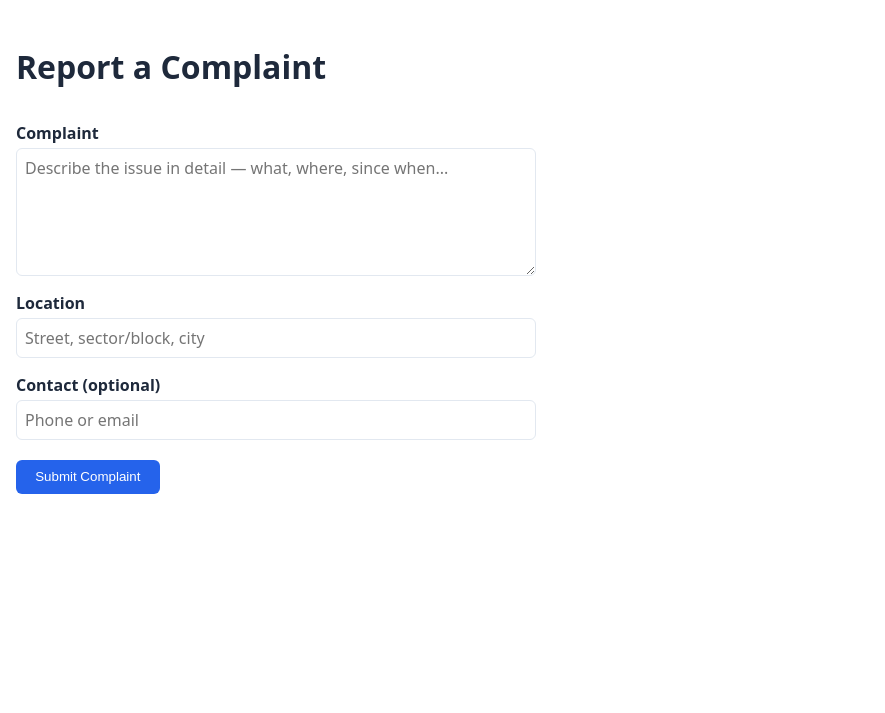
Test: SubmitPage › renders category, priority, summary and provider on success
The image size is (885, 713).
Type "Streetlight has been broken for over a week now near the park." into the text box labelled "Complaint" at coordinates (276, 212), box [16, 148, 536, 276]
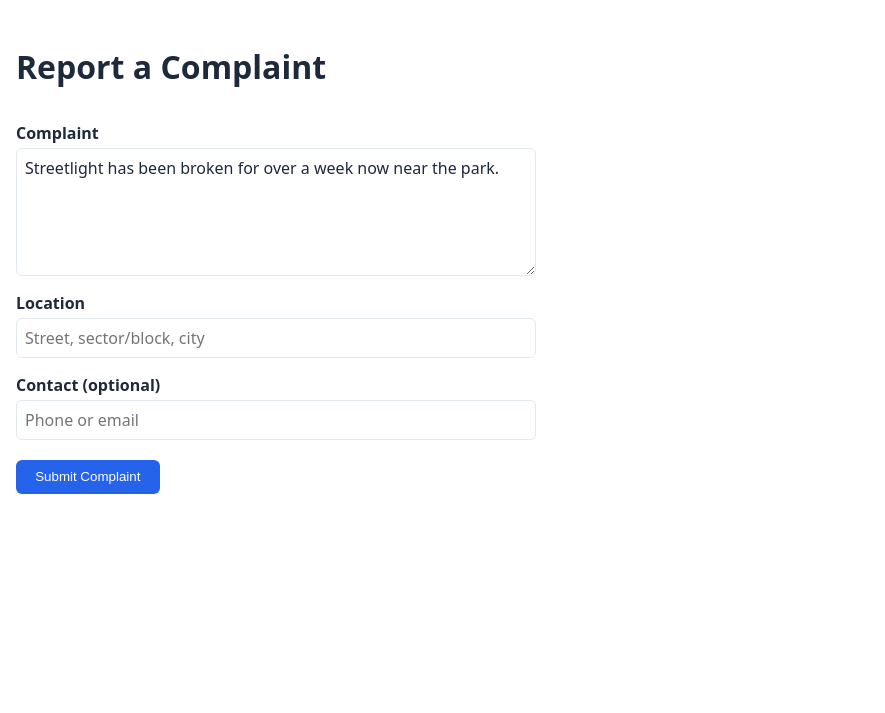
Type "Sector I-8" into the field labelled "Location" at coordinates (276, 338), box [16, 318, 536, 358]
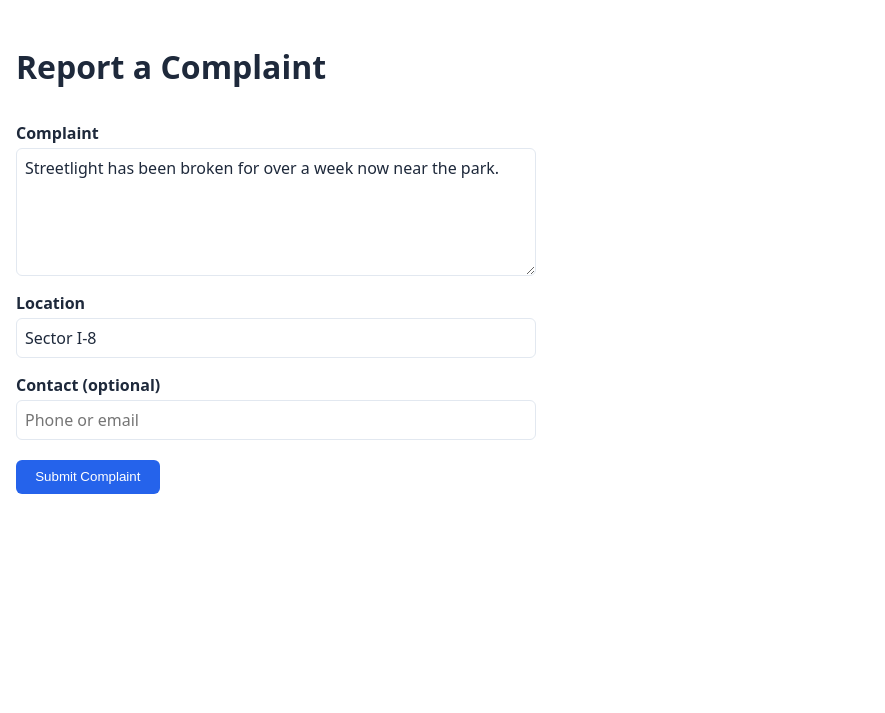
Click the button "Submit Complaint" at coordinates (88, 477), box [16, 460, 160, 494]
(page scrolled)
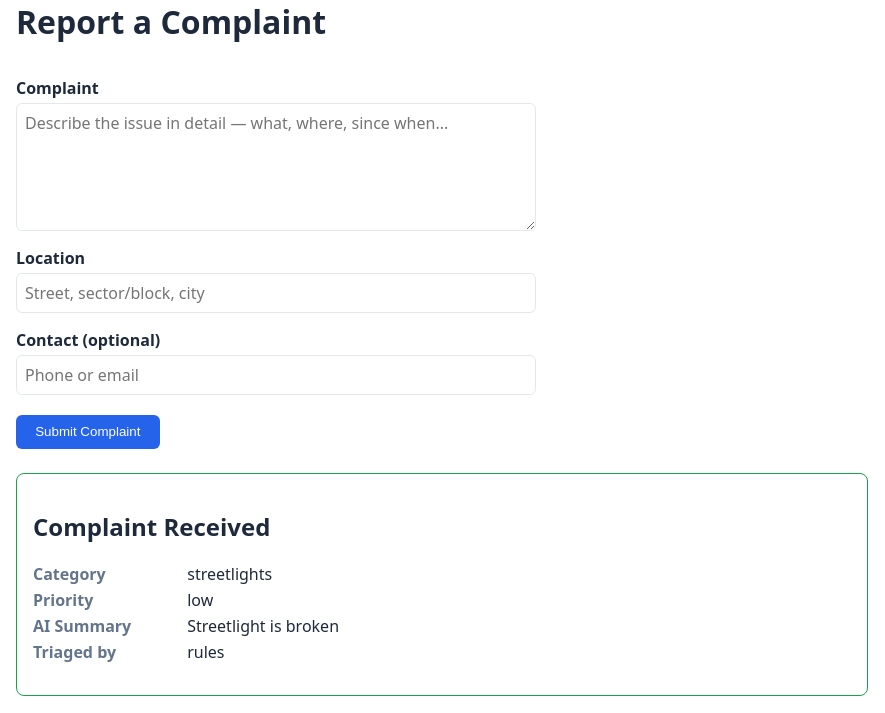
Expected: the element with test id "result-card" shows "streetlights", [187, 563, 272, 585]
Expected: the element with test id "result-card" shows "low", [187, 589, 213, 611]
Expected: the element with test id "result-card" shows "Streetlight is broken", [187, 615, 339, 637]
